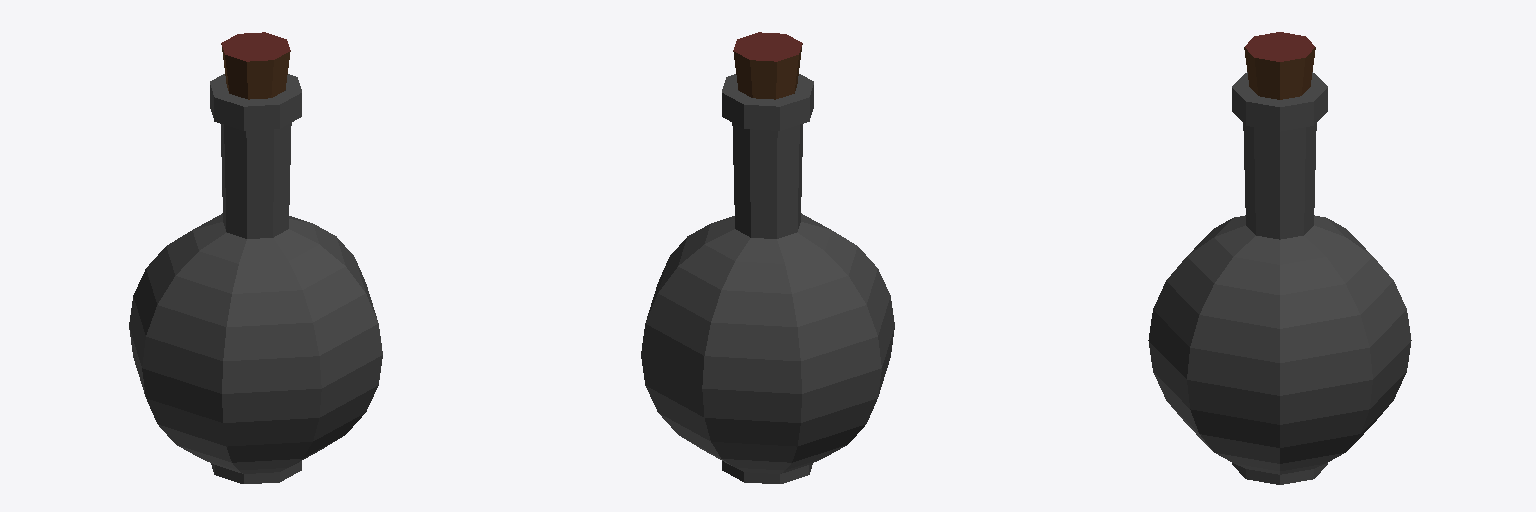
File: Potion_Yellow.obj
The picture shows the model from 3 angles: view 1: azimuth 30°, elevation 25°; view 2: azimuth 150°, elevation 25°; view 3: azimuth 270°, elevation 25°; orthographic projection.
Visible parts, largest first — view 1: pSphere3, pCylinder1; view 2: pSphere3, pCylinder1; view 3: pSphere3, pCylinder1.
Boxes of the visible parts, box(x1,y1,x2,y2) form: pSphere3: box(129, 74, 382, 483); pCylinder1: box(221, 32, 290, 99); pSphere3: box(641, 74, 894, 483); pCylinder1: box(733, 32, 802, 99); pSphere3: box(1148, 72, 1411, 484); pCylinder1: box(1244, 32, 1315, 99).
Bounding box in the file's own units: 1.08 × 1.89 × 1.08.